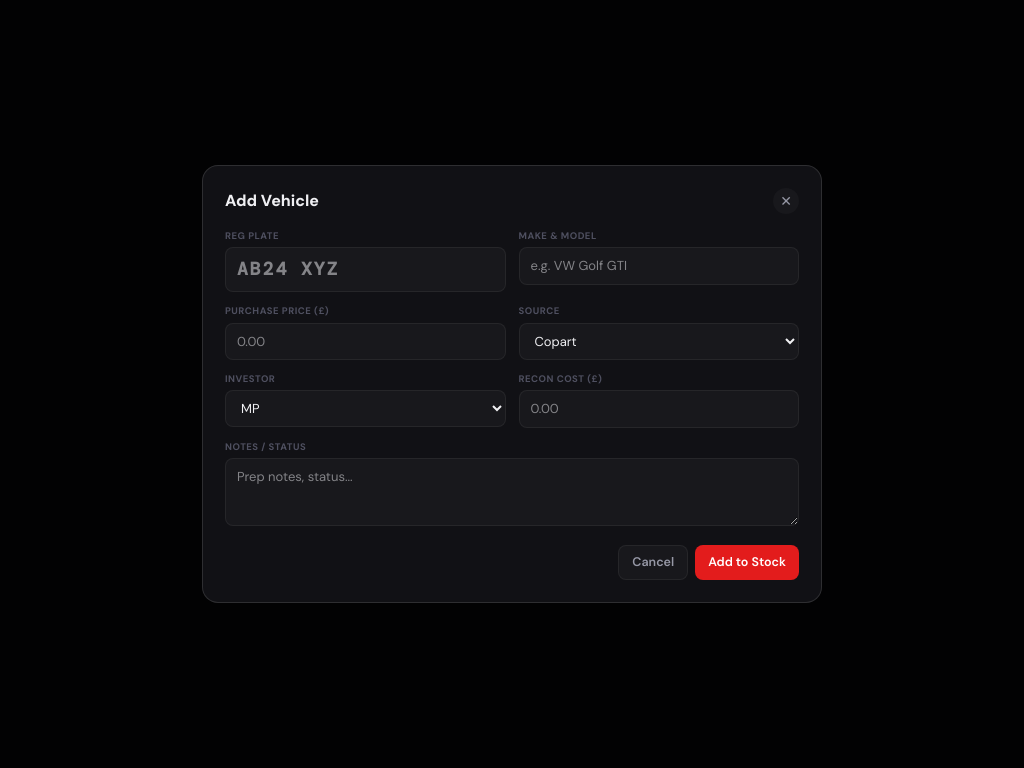
Test case: AddVehicleModal › shows validation error when the plate is missing
Click the button "Add to Stock" at (747, 562), box [695,545,799,580]
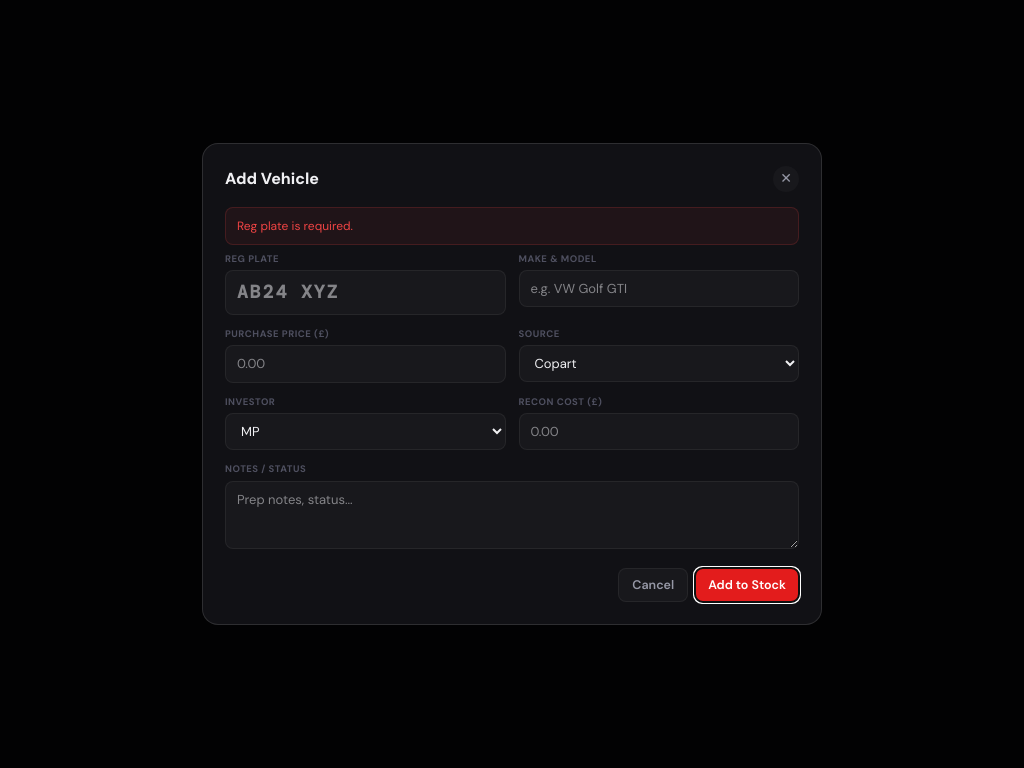
expect the text "Reg plate is required." is shown: met, box [225,207,799,245]
